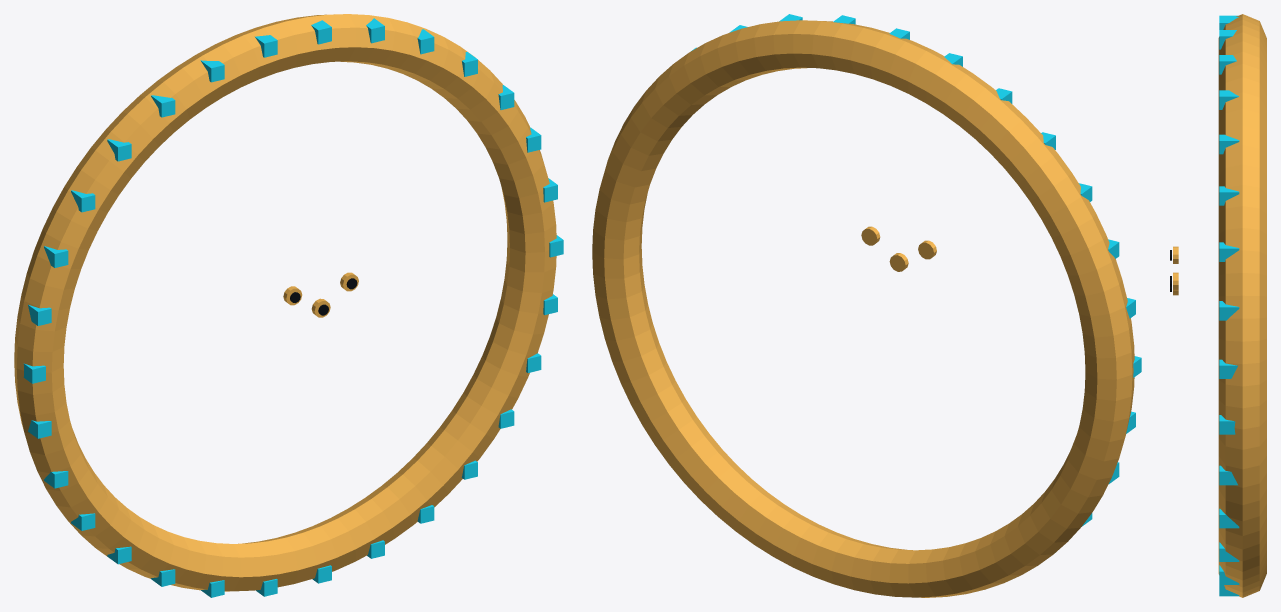
The model's file is 14_L91_DeepSpaceMissionCertificationArch.fbx.
The picture shows the model from 3 angles, left to right: view 1: azimuth 30°, elevation 25°; view 2: azimuth 150°, elevation 25°; view 3: azimuth 270°, elevation 25°; orthographic projection. The views are drawn at different scales.
Visible parts, largest first — view 1: L91_DeepSpaceMissionCertificationArch_Part_0000, L91_DeepSpaceMissionCertificationArch_Part_0001, L91_DeepSpaceMissionCertificationArch_Part_0002; view 2: L91_DeepSpaceMissionCertificationArch_Part_0000, L91_DeepSpaceMissionCertificationArch_Part_0001; view 3: L91_DeepSpaceMissionCertificationArch_Part_0000, L91_DeepSpaceMissionCertificationArch_Part_0001, L91_DeepSpaceMissionCertificationArch_Part_0002.
Part boxes in pixels (left/top/right/bottom): L91_DeepSpaceMissionCertificationArch_Part_0000: left=14, top=14, right=556, bottom=591; L91_DeepSpaceMissionCertificationArch_Part_0001: left=23, top=18, right=563, bottom=438; L91_DeepSpaceMissionCertificationArch_Part_0002: left=44, top=294, right=557, bottom=597; L91_DeepSpaceMissionCertificationArch_Part_0000: left=592, top=20, right=1134, bottom=597; L91_DeepSpaceMissionCertificationArch_Part_0001: left=692, top=14, right=1141, bottom=433; L91_DeepSpaceMissionCertificationArch_Part_0000: left=1218, top=14, right=1266, bottom=597; L91_DeepSpaceMissionCertificationArch_Part_0001: left=1219, top=15, right=1239, bottom=434; L91_DeepSpaceMissionCertificationArch_Part_0002: left=1219, top=465, right=1239, bottom=596.
Size of the model in its own units: 436 by 436 by 72.2.
